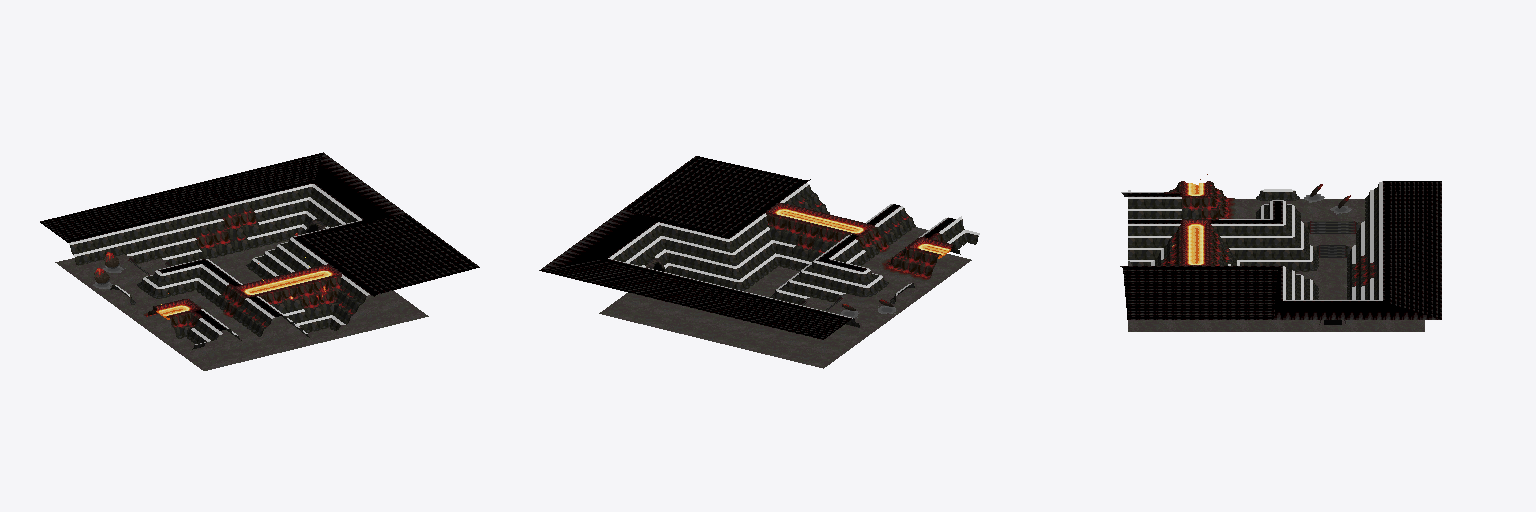
The picture shows the model from 3 angles: view 1: azimuth 30°, elevation 25°; view 2: azimuth 150°, elevation 25°; view 3: azimuth 270°, elevation 25°; orthographic projection.
Parts seen in each view (by area): view 1: polygon2, polygon6, polygon10, polygon24, polygon18, polygon16, polygon26, polygon17; view 2: polygon2, polygon6, polygon10, polygon24, polygon18, polygon16, polygon26; view 3: polygon2, polygon6, polygon10, polygon24, polygon18, polygon16, polygon8.
Part boxes in pixels (x1,y1,x2,y2): polygon2: (40,152,479,330); polygon6: (55,240,428,370); polygon10: (70,187,366,349); polygon24: (69,184,369,344); polygon18: (76,227,340,343); polygon16: (148,213,340,327); polygon26: (193,202,358,326); polygon17: (173,223,353,329); polygon2: (539,156,955,339); polygon6: (599,227,971,368); polygon10: (613,185,978,326); polygon24: (608,183,979,318); polygon18: (666,218,966,327); polygon16: (767,216,955,277); polygon26: (785,191,908,252); polygon2: (1120,181,1441,319); polygon6: (1128,199,1424,331); polygon10: (1122,184,1378,299); polygon24: (1121,181,1382,300); polygon18: (1128,191,1367,299); polygon16: (1164,183,1369,284); polygon8: (1310,221,1355,257).
Size of the model in its own units: 9.38 by 1.71 by 8.86.
Materials: 29 (28 with a texture image).